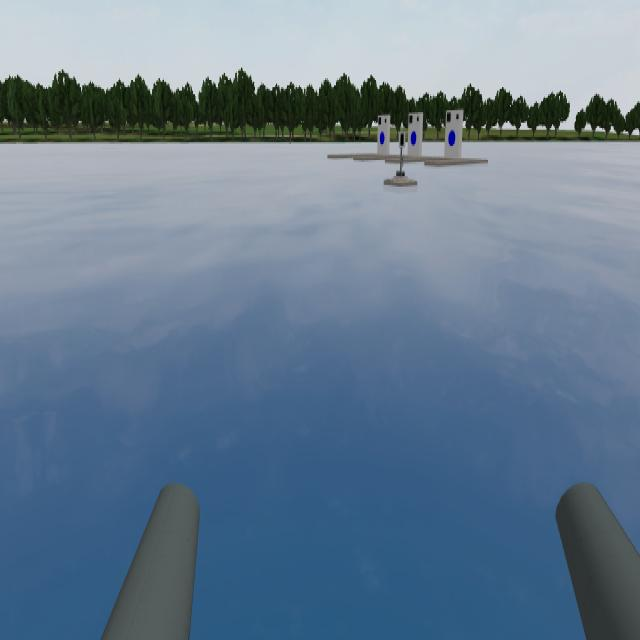black_pole: (394, 125, 409, 151)
